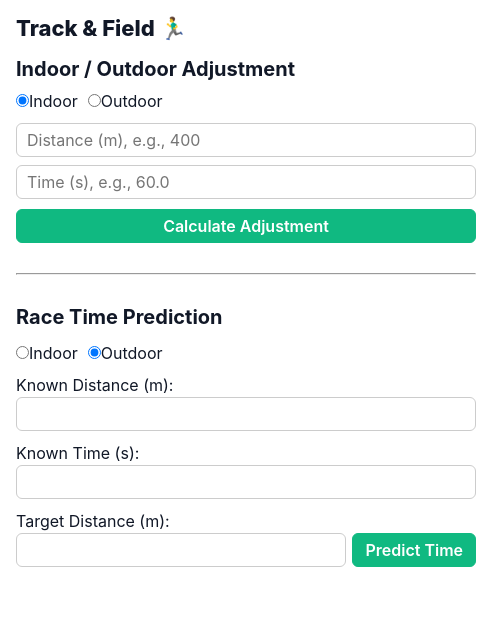
it: 🏃‍♀️ TrackField Component › shows error for unrealistic input
Type "100" into the 3rd number field at {"x": 246, "y": 414}, box [16, 397, 476, 431]
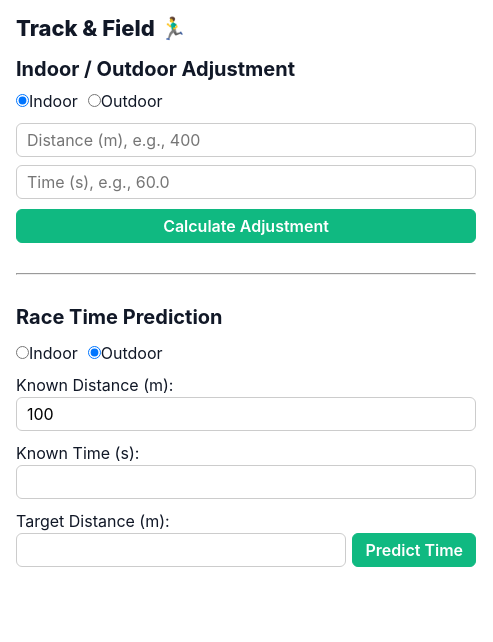
Type "200" into the 4th number field at {"x": 246, "y": 482}, box [16, 465, 476, 499]
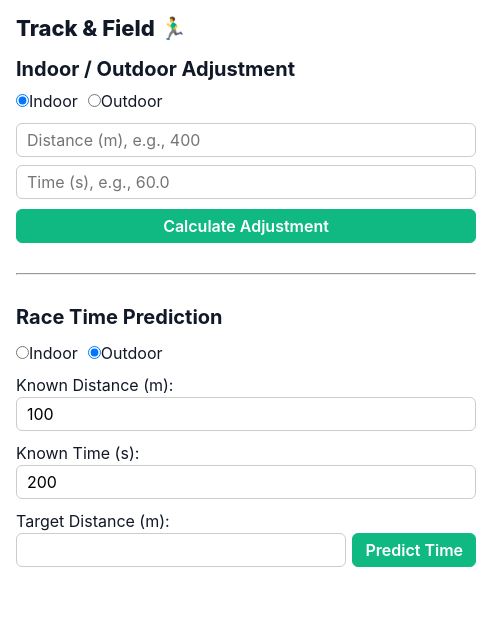
Type "400" into the 5th number field at {"x": 181, "y": 550}, box [16, 533, 346, 567]
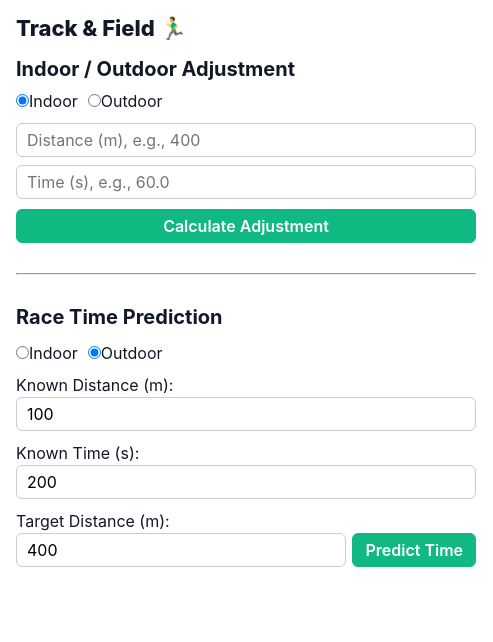
Click the button "Predict Time" at {"x": 414, "y": 550}, box [352, 533, 476, 567]
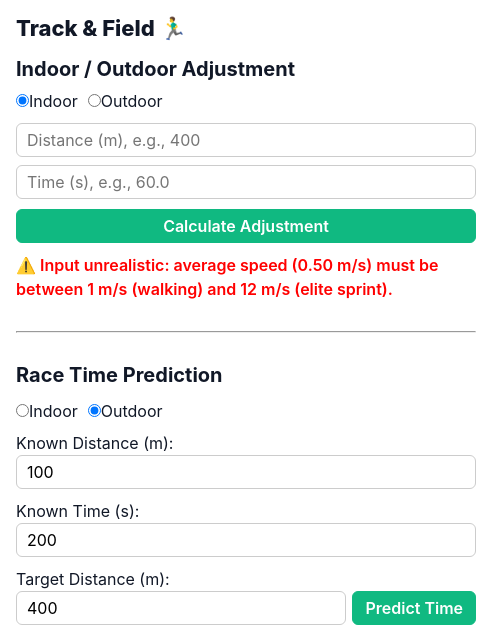
expect the text "unrealistic" is shown: met, box [16, 255, 438, 299]
